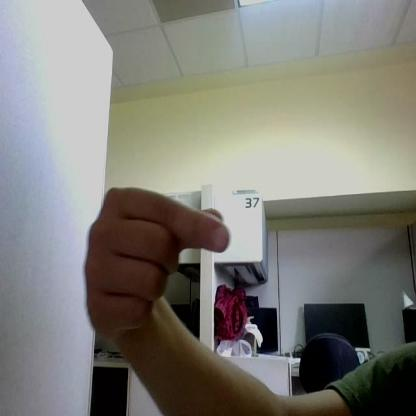G: (84, 187, 228, 338)
